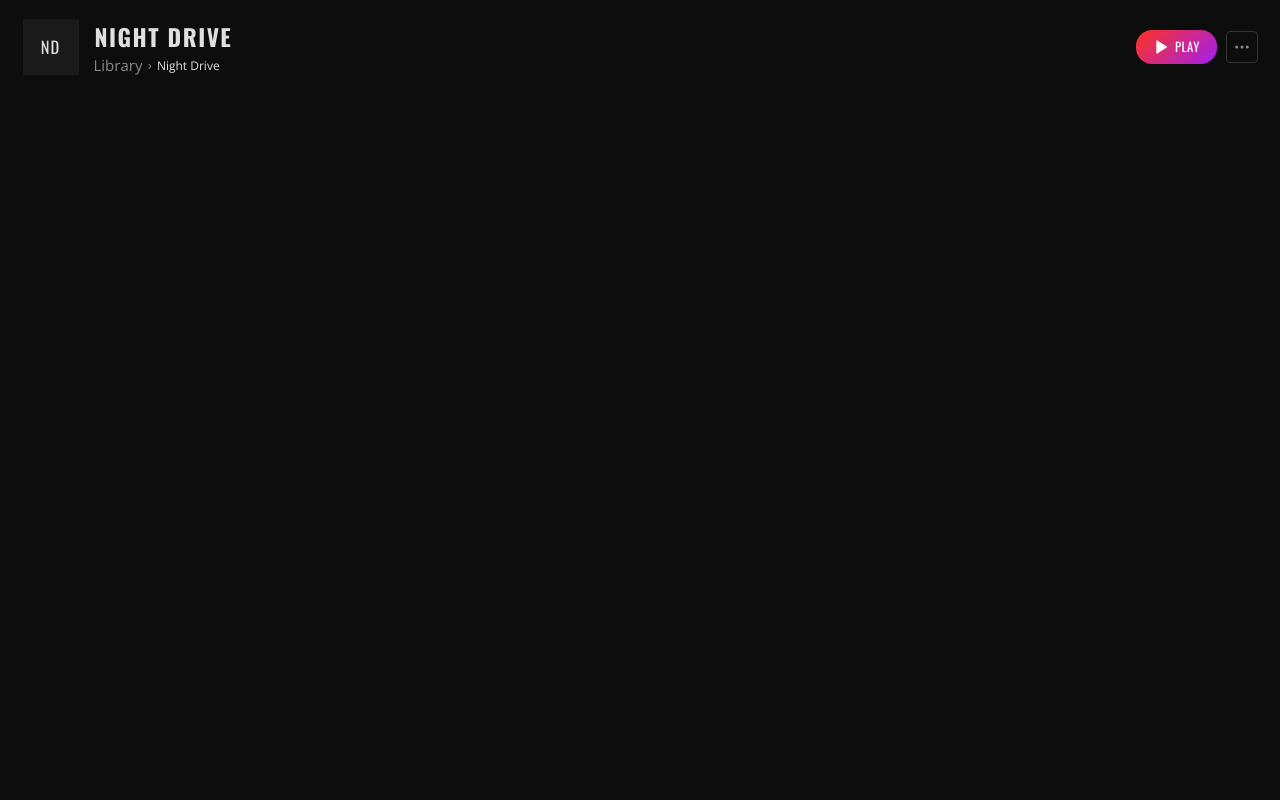
Test: CollectionHeader › lists playlist entries: Share, Save offline, Rename, Delete — no Cover or Add to playlist
The width and height of the screenshot is (1280, 800).
Click the button named "More" at (1242, 46), box [1226, 30, 1258, 62]
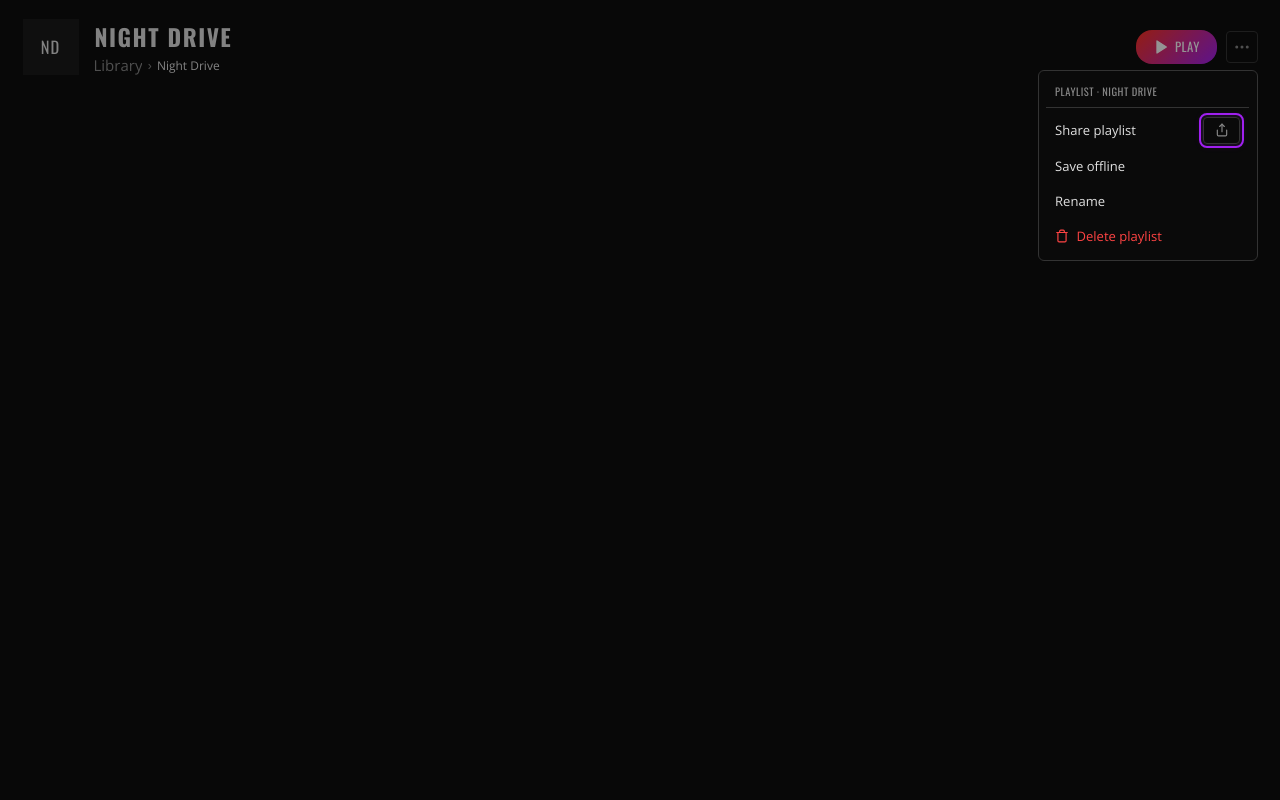
Check: the text with class "menu-row-label" reads "Share playlist", box [1055, 122, 1136, 140]
